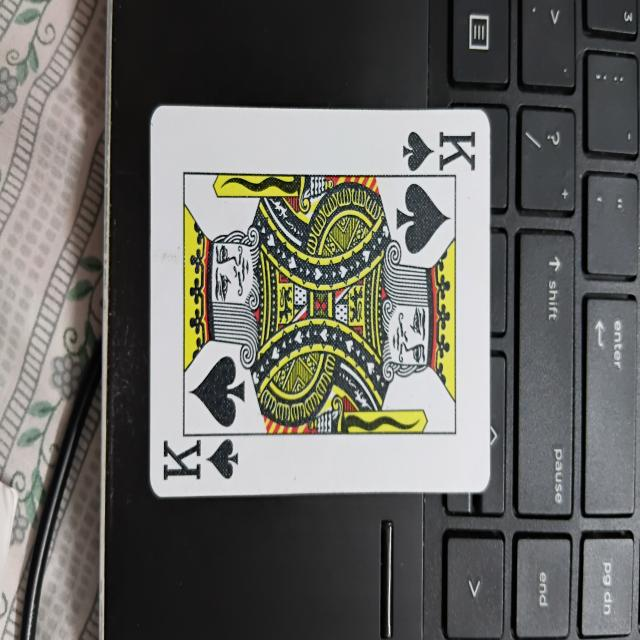KS: (154, 112, 488, 490)
